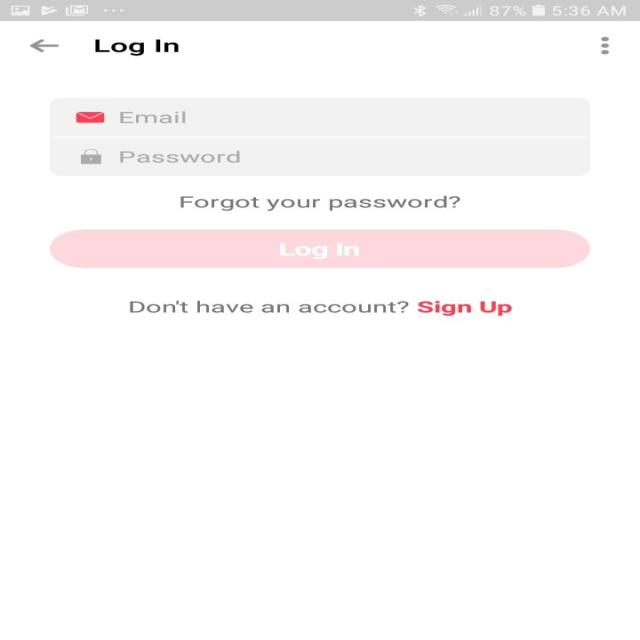EditText: (48, 137, 590, 176), (48, 98, 590, 136)
Icon: (30, 39, 59, 52), (80, 148, 102, 165), (75, 112, 105, 124), (599, 36, 609, 55)
Text: (129, 299, 512, 316), (180, 195, 460, 211), (119, 150, 240, 164), (94, 39, 179, 56), (118, 111, 186, 124)
TextButton: (48, 229, 590, 268)
